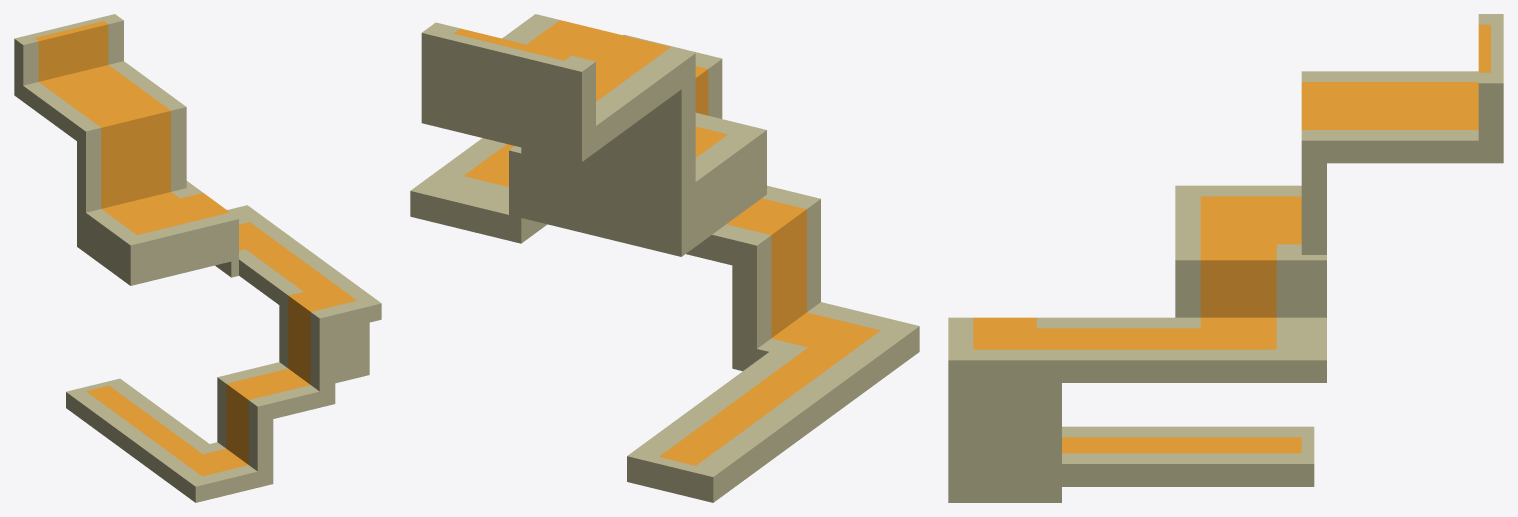
The model's file is monu9-stair.obj.
3 views of the same model, side by side, from view 1: azimuth 30°, elevation 25°; view 2: azimuth 150°, elevation 25°; view 3: azimuth 270°, elevation 25° (orthographic). The views are drawn at different scales.
Bounding box in the file's own units: 24 × 39 × 44.
Materials: 1 (1 with a texture image).
